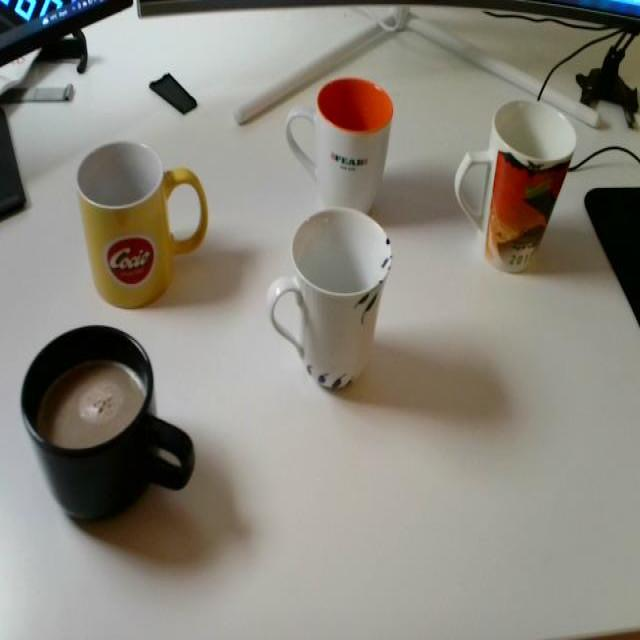cup: (10, 317, 201, 530), (259, 203, 405, 395), (453, 83, 585, 290), (64, 135, 218, 310), (276, 72, 406, 218)
